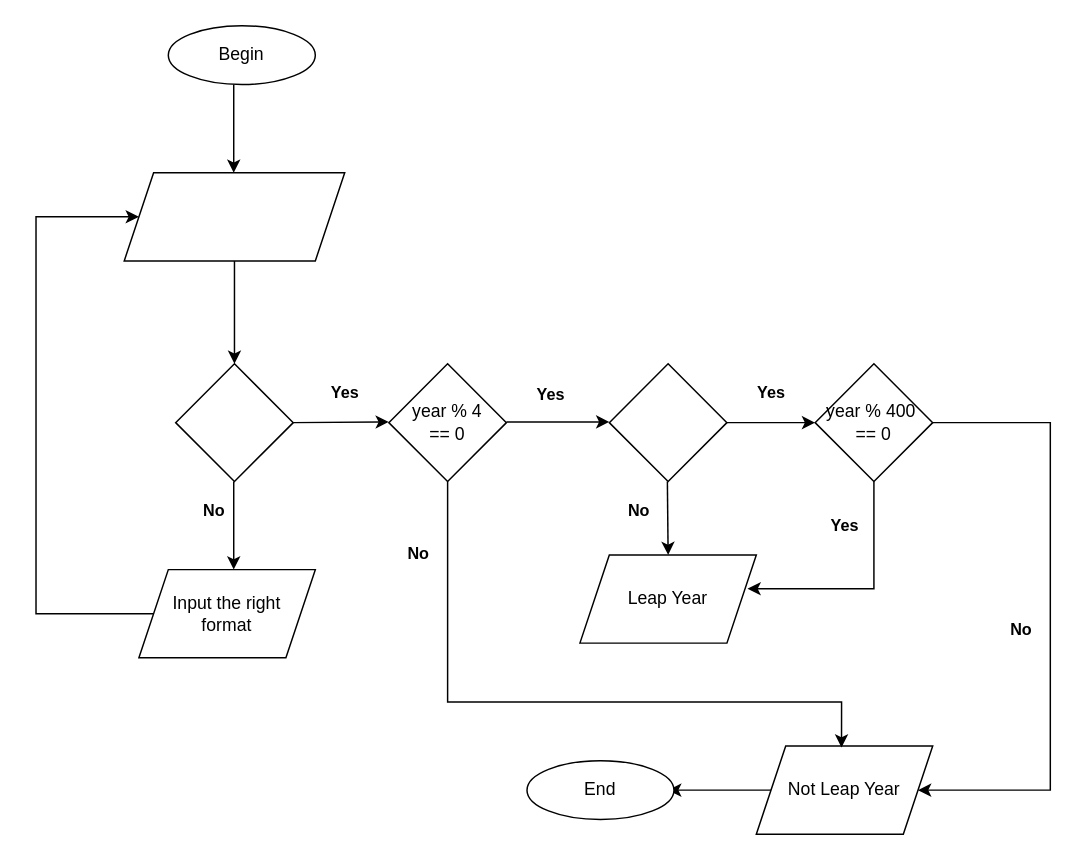
This 1088x860 diagram has some shape labels left out. The centre of each missing label's shape, as x and y in pixels:
"Input Check Year (year)" goes at pixel 234 216.
"year % 100 == 0" goes at pixel 667 421.
"year = Int?" goes at pixel 233 421.
